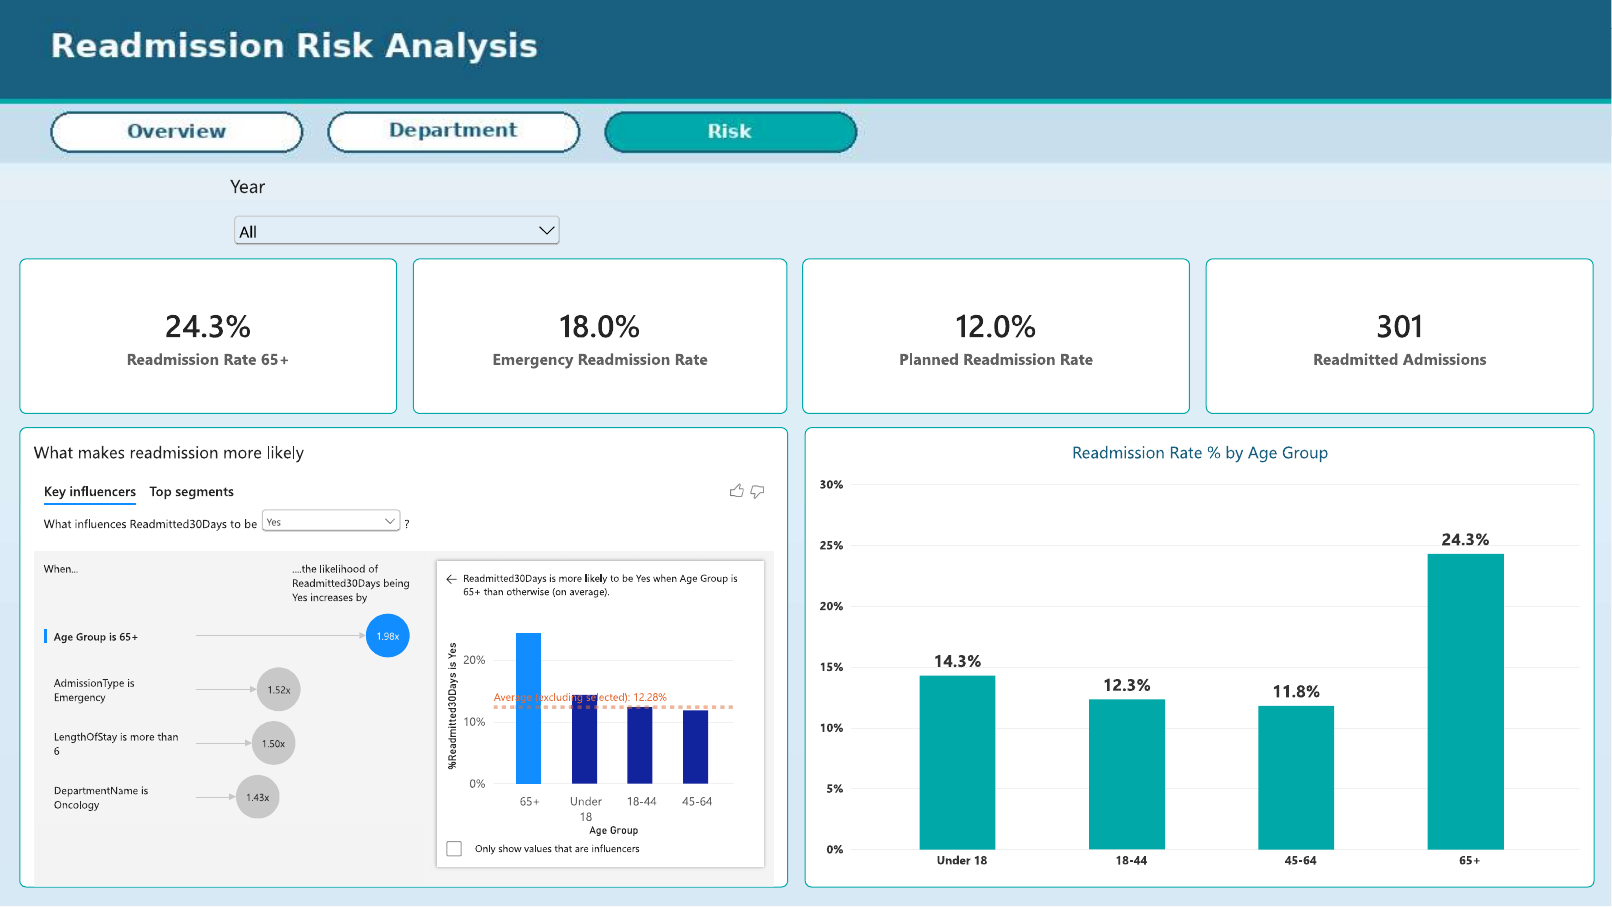

This screenshot's page, from the dashboard's own definition file:
{"tool":"powerbi","page":{"name":"Risk","canvas":[1920,1080],"ordinal":2},"visuals":[{"type":"pageNavigator","box":[61.7,131.7,959.2,51.5],"z":0},{"type":"keyDriversVisual","title":"What makes readmission more likely","fields":{"ExplainBy":["Patients.Age Group","Admissions.AdmissionType","Admissions.LengthOfStay","Patients.Gender","Departments.DepartmentName"],"Target":["Admissions.Readmitted30Days"]},"box":[22.6,508.4,916,547.5],"z":1000},{"type":"slicer","title":"Year","fields":{"Values":["Date.Year"]},"box":[273.8,205.3,398,91.9],"z":2000},{"type":"card","fields":{"Values":["Calculated_Admission_Table.Readmission Rate 65+"]},"box":[22.7,307,450,184.9],"z":3000},{"type":"card","fields":{"Values":["Calculated_Admission_Table.Readmitted Admissions"]},"box":[1437.2,307,462.2,184.9],"z":4000},{"type":"card","fields":{"Values":["Calculated_Admission_Table.Planned Readmission Rate"]},"box":[955.8,307,462.2,184.9],"z":5000},{"type":"card","fields":{"Values":["Calculated_Admission_Table.Emergency Readmission Rate"]},"box":[491.9,307,446.5,184.9],"z":6000},{"type":"clusteredColumnChart","fields":{"Category":["Patients.Age Group"],"Y":["Calculated_Admission_Table.Readmission Rate %"]},"box":[959.2,508.4,940.7,547.5],"z":7000}]}

Visuals, with their boxes in screenshot pixels (x1, y1, x2, y2), scaled from the page's 1920x1080 canvas onto the 1612x907 screenshot:
pageNavigator: {"left": 52, "top": 111, "right": 857, "bottom": 154}
"What makes readmission more likely" keyDriversVisual: {"left": 19, "top": 427, "right": 788, "bottom": 887}
"Year" slicer: {"left": 230, "top": 172, "right": 564, "bottom": 250}
card - Calculated_Admission_Table.Readmission Rate 65+: {"left": 19, "top": 258, "right": 397, "bottom": 413}
card - Calculated_Admission_Table.Readmitted Admissions: {"left": 1207, "top": 258, "right": 1595, "bottom": 413}
card - Calculated_Admission_Table.Planned Readmission Rate: {"left": 802, "top": 258, "right": 1191, "bottom": 413}
card - Calculated_Admission_Table.Emergency Readmission Rate: {"left": 413, "top": 258, "right": 788, "bottom": 413}
clusteredColumnChart - Patients.Age Group x Calculated_Admission_Table.Readmission Rate %: {"left": 805, "top": 427, "right": 1595, "bottom": 887}
